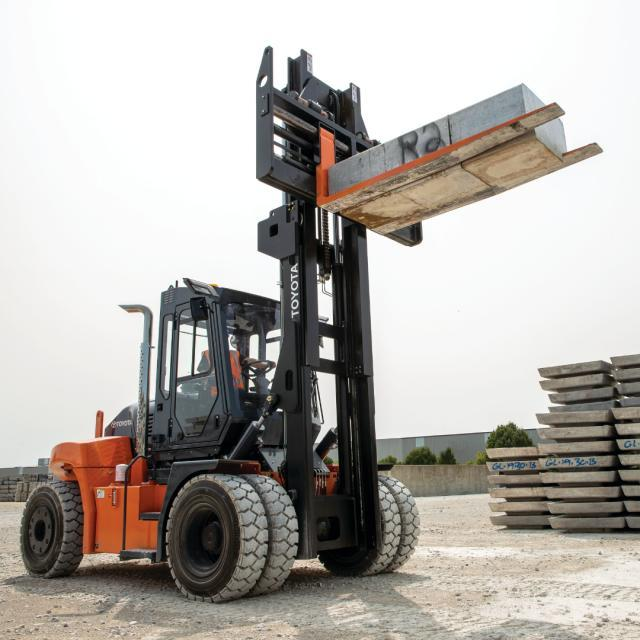forklift: (14, 261, 424, 605)
